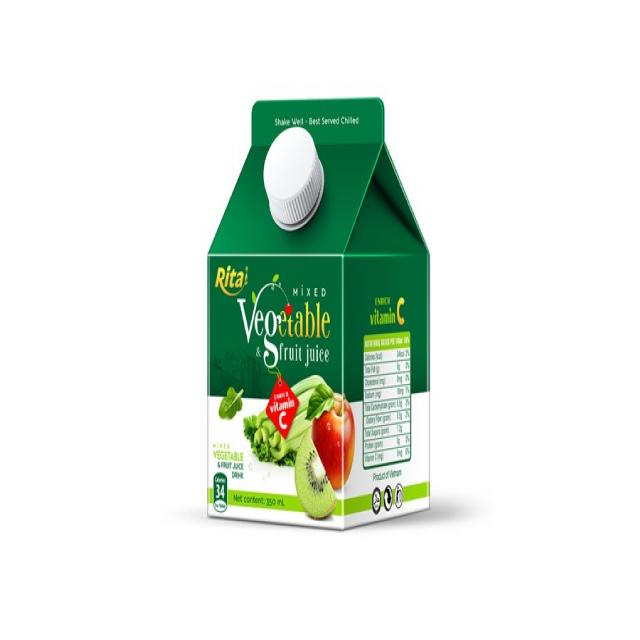non_white_jug: (186, 64, 450, 550)
